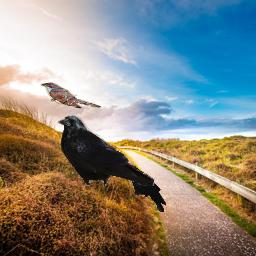Crow: (57, 115, 155, 186), (120, 165, 166, 212)
Cuckoo: (40, 81, 102, 111)
